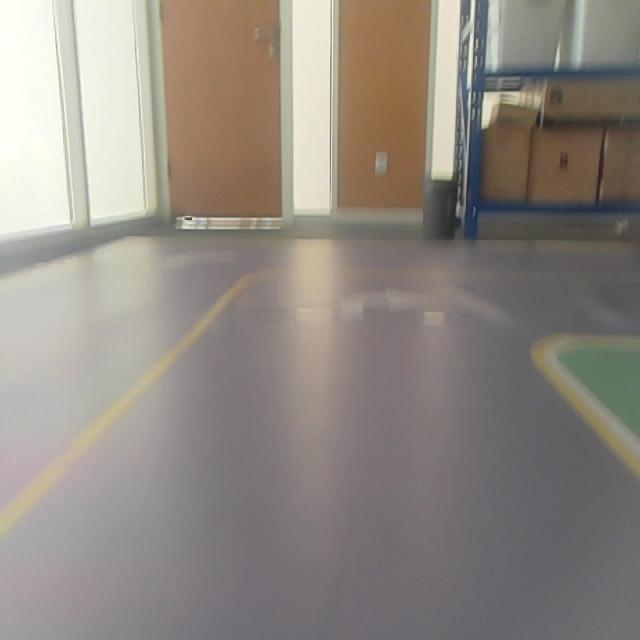left_lane: (1, 271, 255, 534)
right_lane: (533, 353, 640, 475)
